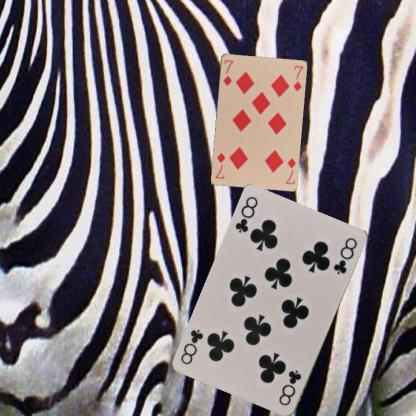7d: (220, 57, 235, 87), (283, 156, 297, 186)
8c: (232, 194, 260, 235), (276, 367, 303, 408)
